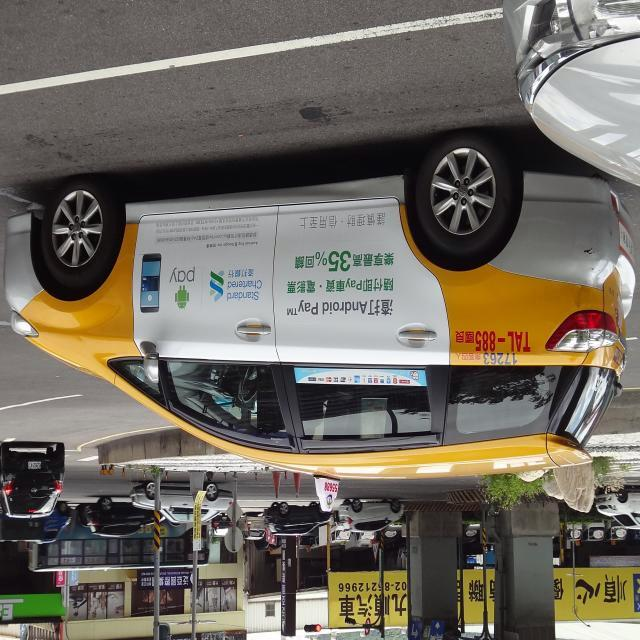taxi: (9, 116, 632, 540)
